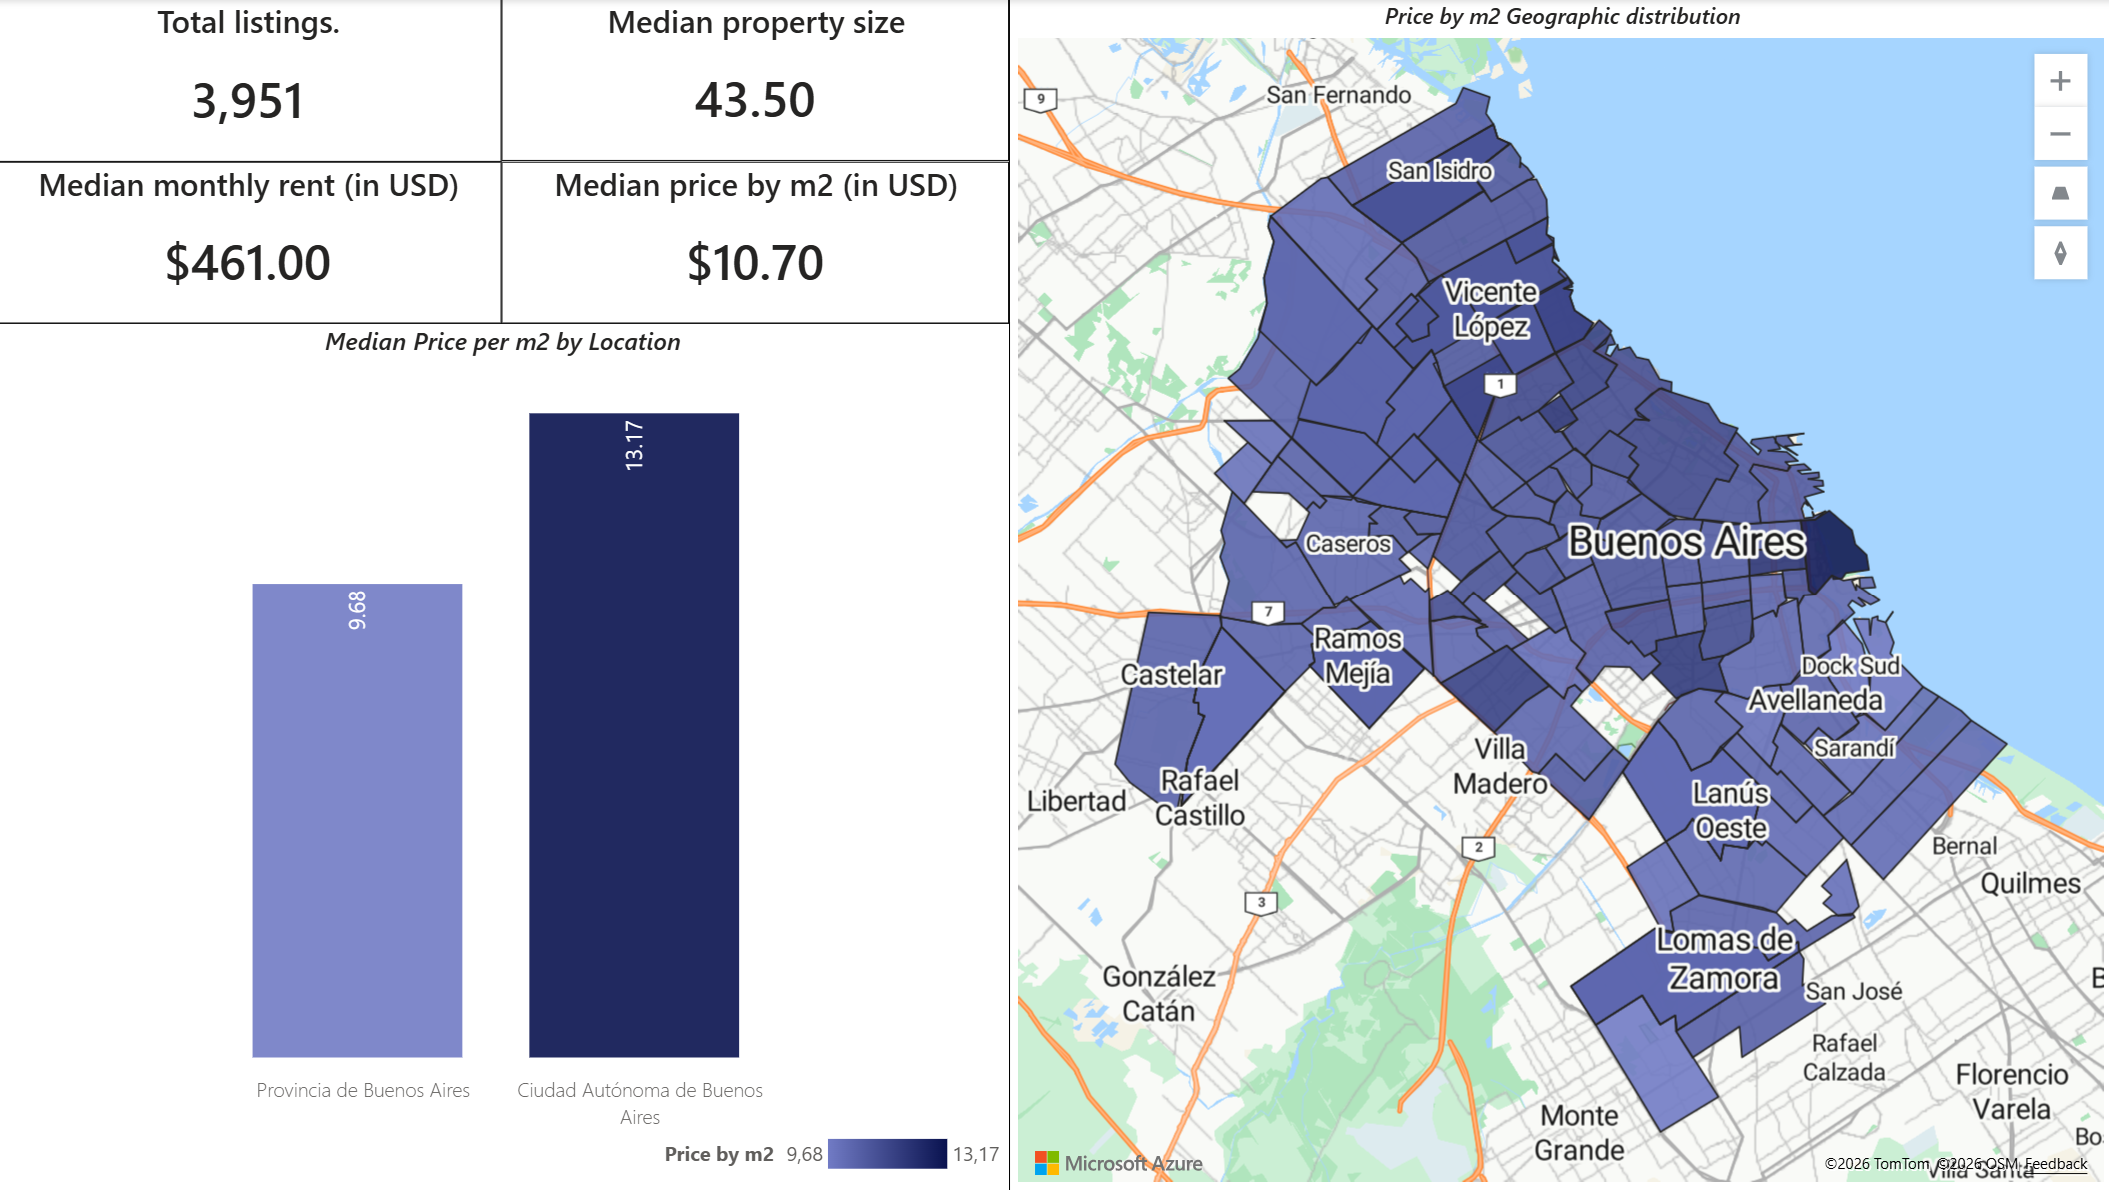

What the dashboard file says about the page in this screenshot:
{"tool":"powerbi","page":{"name":"Geo analysis","canvas":[1280,720],"ordinal":0},"visuals":[{"type":"card","title":"Total listings.","fields":{"Values":["dfinal.Total_Listing"]},"box":[0,0,306.3,98.2],"z":0},{"type":"azureMap","title":"Price by m2 Geographic distribution","fields":{"Category":["dfinal.Location_Azure"]},"box":[612.8,0,667.2,720.5],"z":1000},{"type":"card","title":"Median monthly rent (in USD)","fields":{"Values":["dfinal.Median_Monthly_Rent_usd"]},"box":[0,97.7,306.4,97.7],"z":2000},{"type":"card","title":"Median price by m2 (in USD)","fields":{"Values":["dfinal.Median_price_by_m2"]},"box":[306.4,97.7,306.4,97.7],"z":3000},{"type":"card","title":"Median property size","fields":{"Values":["dfinal.Median_Property_m2"]},"box":[306.4,0,306.4,97.7],"z":4000},{"type":"columnChart","title":"Median Price per m2 by Location","fields":{"Category":["dfinal.state","dfinal.Analysis_zone","dfinal.neighborhood"],"Y":["dfinal.Price_per_m2_Numeric"]},"box":[0,195.6,613.3,524.4],"z":6000}]}

Visuals, with their boxes in screenshot pixels (x1, y1, x2, y2), scaled from the page's 1280x720 canvas onto the 2109x1191 screenshot:
"Total listings." card: region(0, 0, 505, 162)
"Price by m2 Geographic distribution" azureMap: region(1010, 0, 2108, 1190)
"Median monthly rent (in USD)" card: region(0, 162, 505, 323)
"Median price by m2 (in USD)" card: region(505, 162, 1010, 323)
"Median property size" card: region(505, 0, 1010, 162)
"Median Price per m2 by Location" columnChart: region(0, 324, 1011, 1190)
